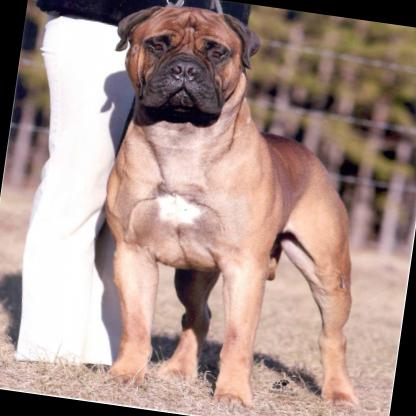bull_mastiff: (63, 0, 415, 416)
